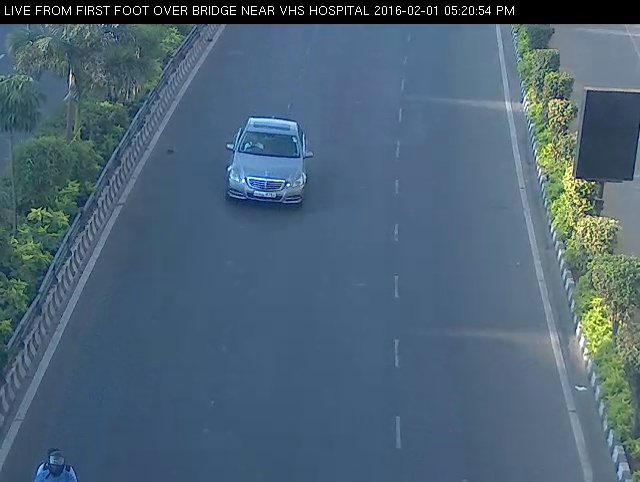Car: (212, 110, 325, 219)
Person: (28, 440, 90, 482)
